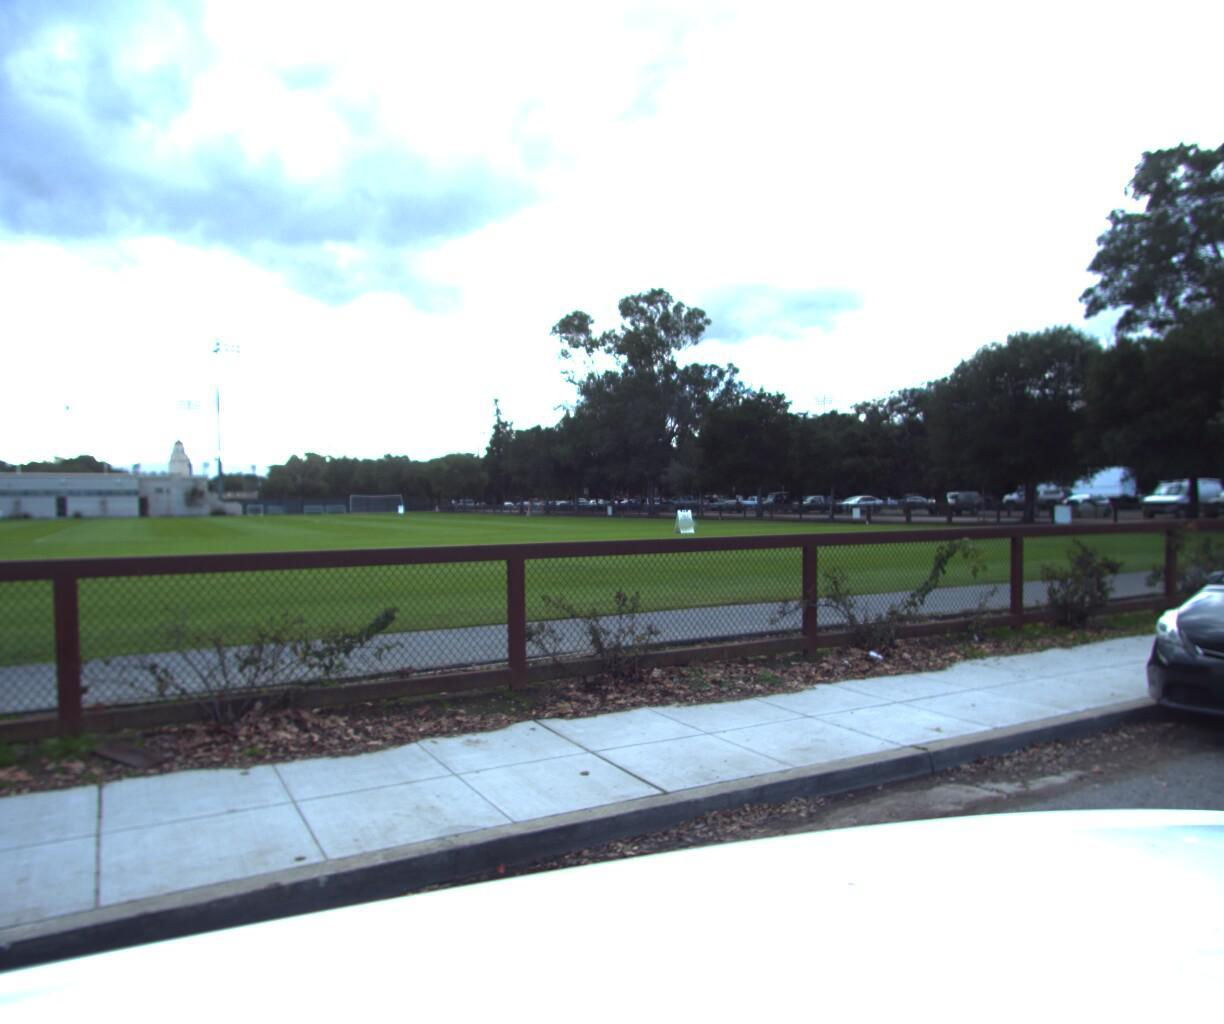car: (1121, 495, 1224, 811)
